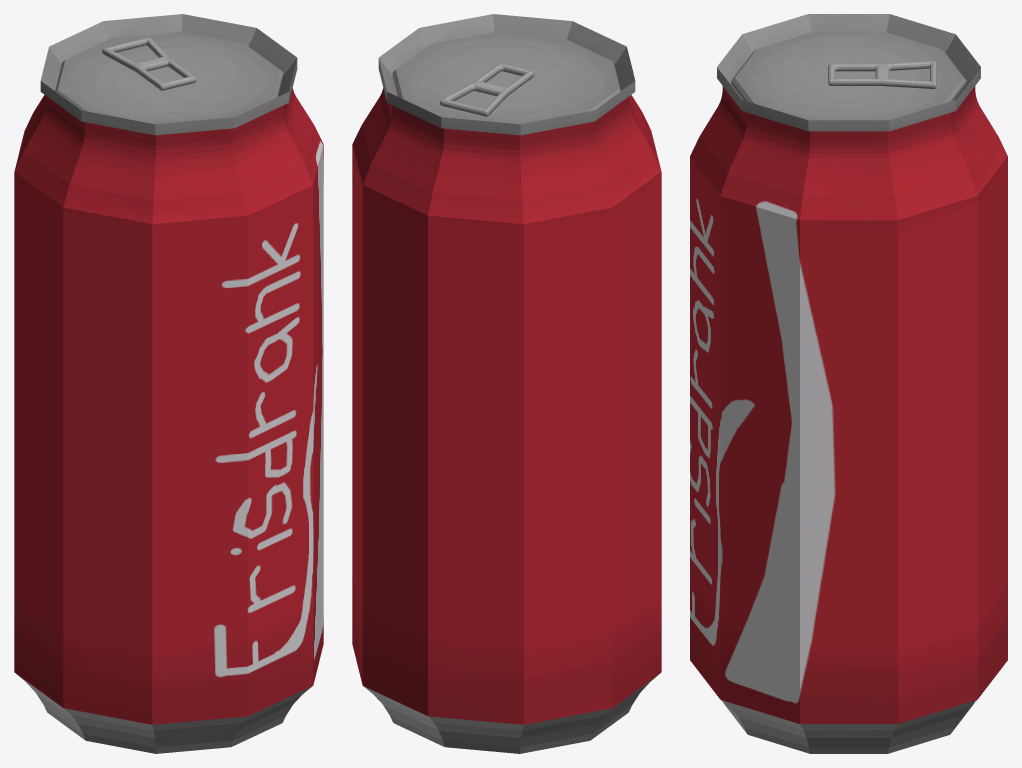
Rendered from SodaCan.fbx.
3 renders of one model, left to right at view 1: azimuth 30°, elevation 25°; view 2: azimuth 150°, elevation 25°; view 3: azimuth 270°, elevation 25°, orthographic.
Parts seen in each view (by area): view 1: SodaCan; view 2: SodaCan; view 3: SodaCan.
Boxes of the visible parts, left/top/right/bottom form: SodaCan: left=14, top=14, right=323, bottom=753; SodaCan: left=352, top=14, right=661, bottom=753; SodaCan: left=690, top=14, right=1007, bottom=753.
Size of the model in its own units: 8.7 by 20.21 by 9.15.
Materials: 1 (1 with a texture image).
